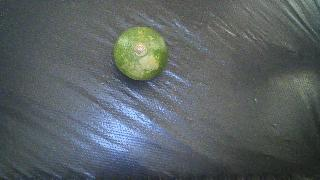DESECHO: (114, 27, 168, 80)
